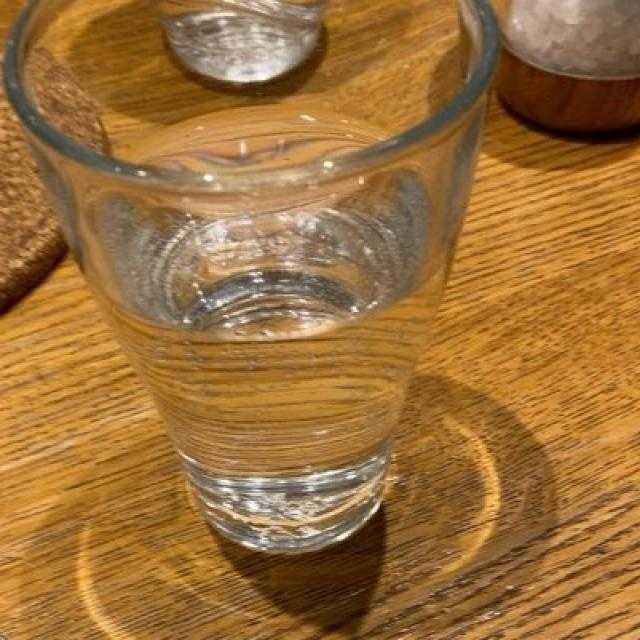water: (59, 99, 451, 545)
